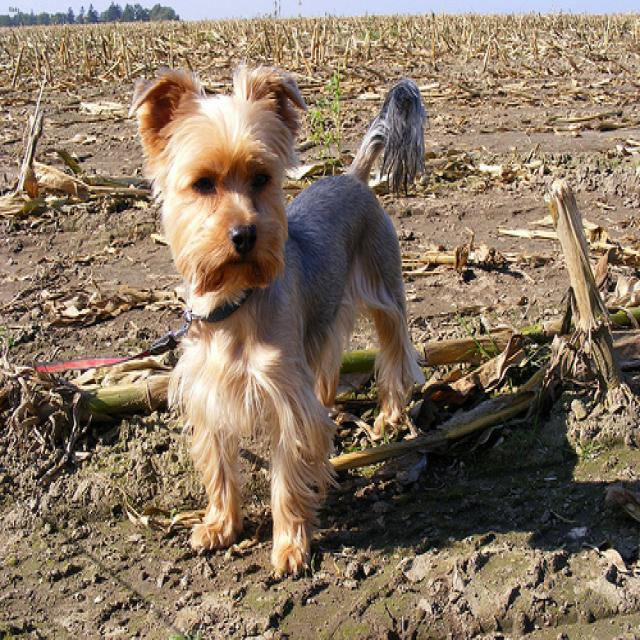dog-yorkshire_terrier: (123, 49, 435, 591)
